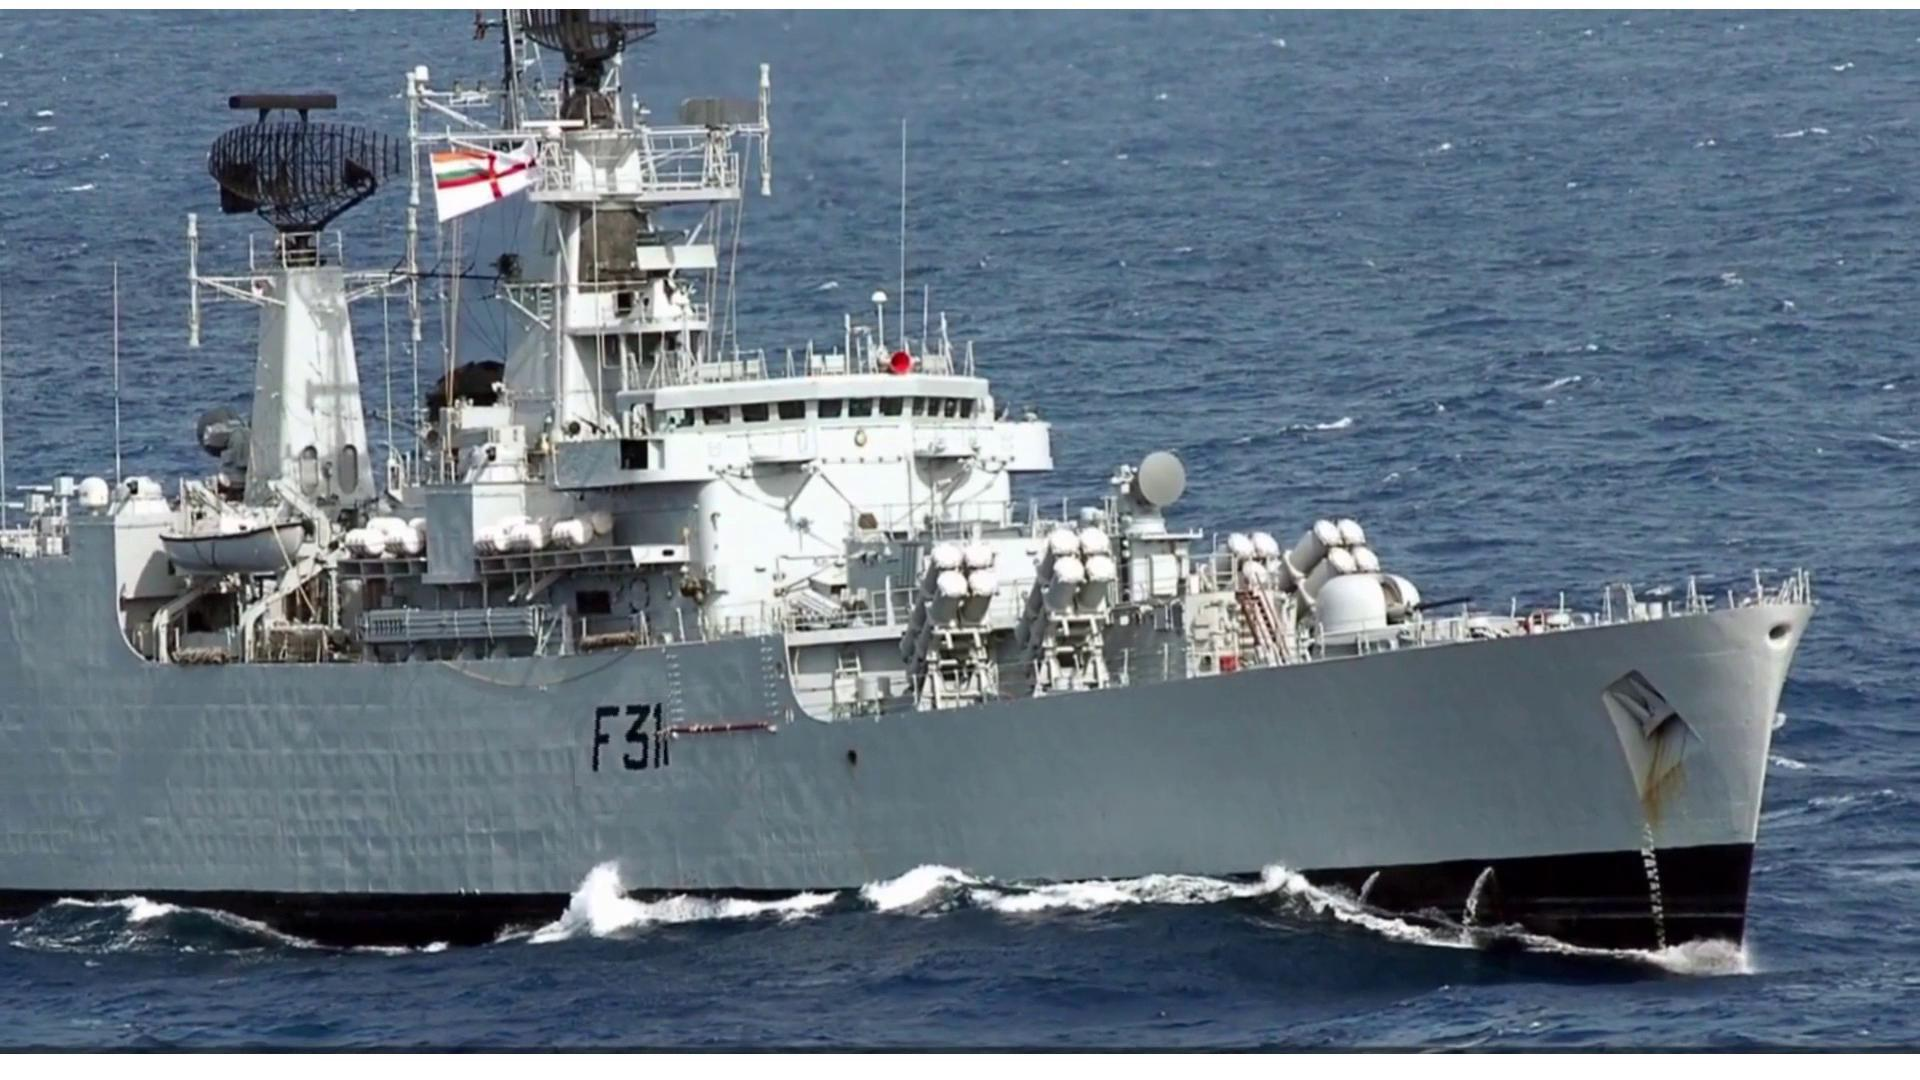OCR: (576, 687, 672, 786)
